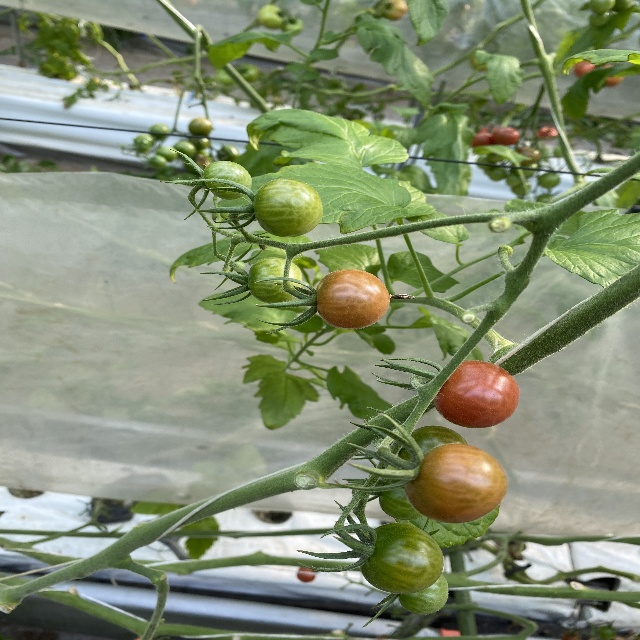l_green: (358, 522, 445, 596), (251, 178, 323, 237), (397, 425, 469, 470), (246, 258, 304, 305), (379, 472, 425, 520), (398, 572, 450, 614), (203, 161, 252, 200)
l_half_ripened: (402, 443, 509, 523), (434, 360, 521, 430), (313, 269, 390, 329)
